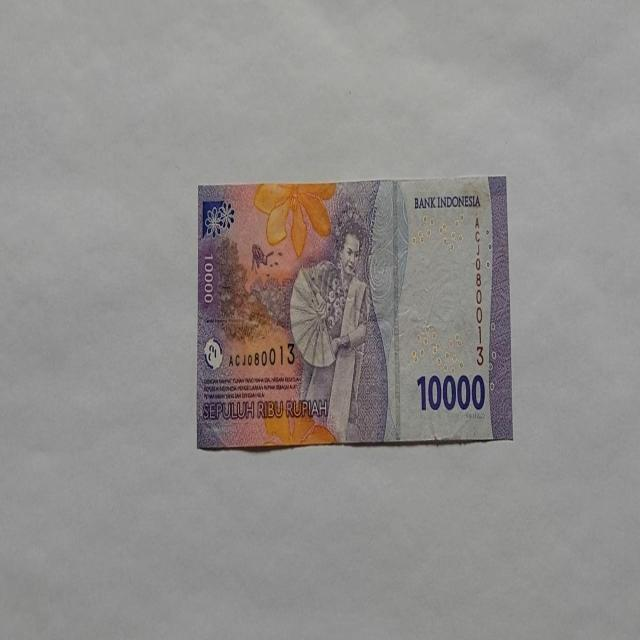Kertas: (196, 175, 512, 451), (416, 370, 486, 412)
